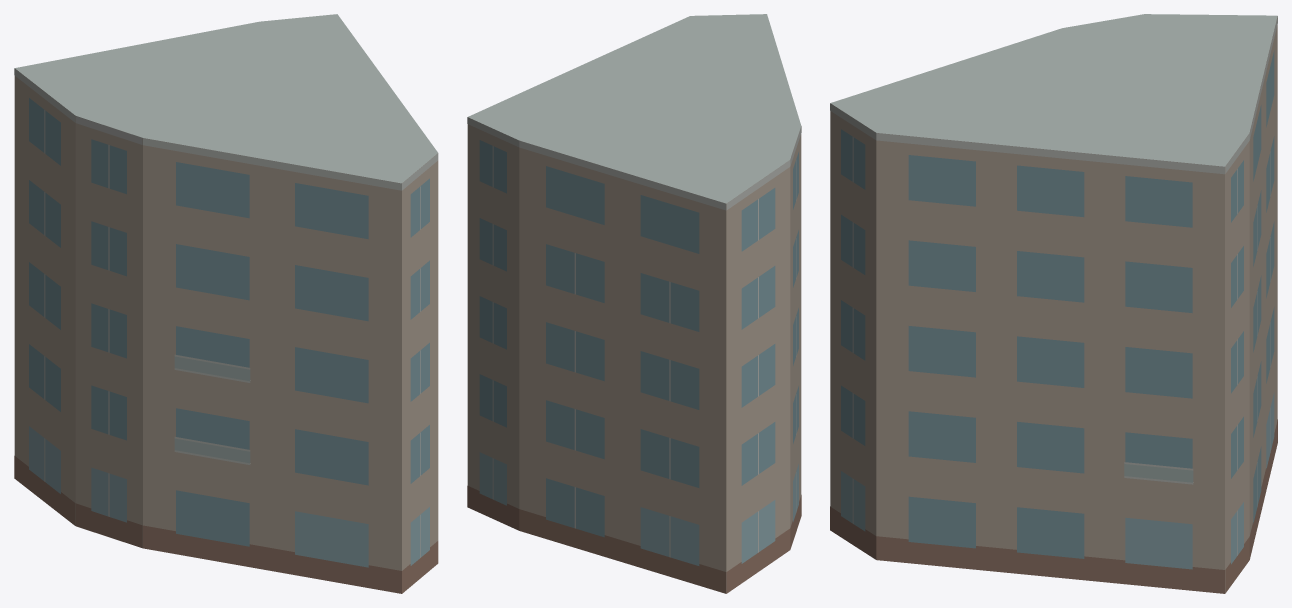
File: survey-upis-32872976.glb
The picture shows the model from 3 angles, left to right: view 1: azimuth 30°, elevation 25°; view 2: azimuth 150°, elevation 25°; view 3: azimuth 270°, elevation 25°; orthographic projection. The views are drawn at different scales.
Parts seen in each view (by area): view 1: survey-upis-32872976.tmp; view 2: survey-upis-32872976.tmp; view 3: survey-upis-32872976.tmp.
Boxes of the visible parts, box(x1,y1,x2,y2) form: survey-upis-32872976.tmp: box(14, 14, 438, 593); survey-upis-32872976.tmp: box(467, 14, 801, 593); survey-upis-32872976.tmp: box(830, 14, 1277, 593).
Size of the model in its own units: 10.51 by 13.7 by 13.02.
